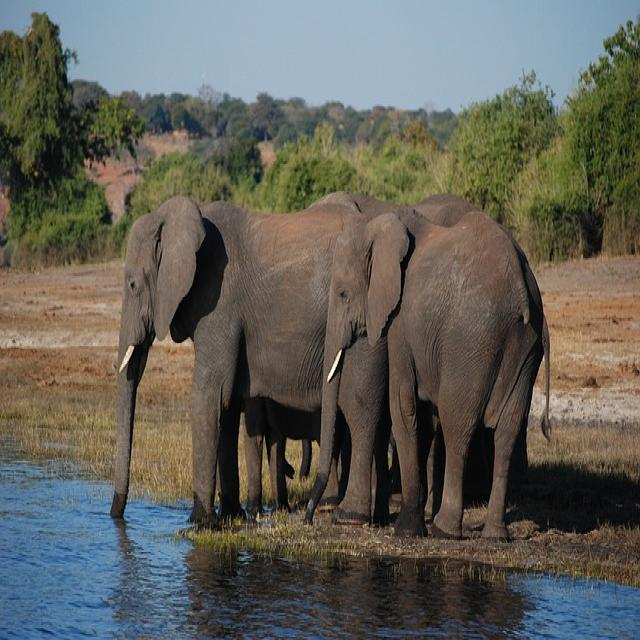FIL: (112, 204, 368, 524), (308, 201, 533, 552)
